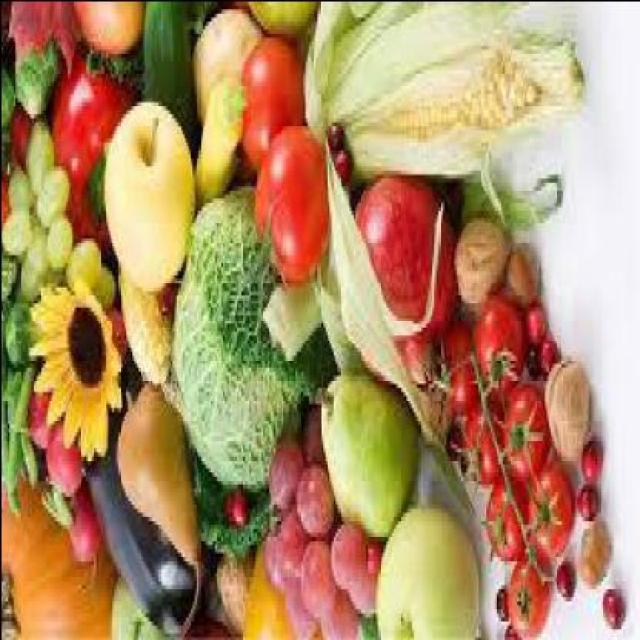BIODEGRADABLE: (322, 157, 473, 520), (302, 4, 586, 185), (174, 186, 334, 500), (82, 366, 220, 639), (351, 181, 458, 422), (119, 386, 203, 639), (28, 274, 124, 471), (109, 100, 198, 306), (2, 483, 118, 639), (50, 52, 135, 262), (313, 379, 421, 539), (374, 506, 484, 639), (254, 126, 332, 286), (194, 4, 264, 145), (242, 41, 308, 173), (245, 543, 329, 639), (459, 169, 561, 234), (197, 475, 274, 559), (197, 76, 243, 206), (144, 3, 196, 117), (121, 282, 173, 391), (455, 221, 513, 310), (11, 4, 78, 81), (527, 463, 576, 568), (501, 386, 550, 488), (476, 305, 524, 407), (546, 359, 592, 463), (481, 482, 530, 572), (434, 326, 474, 431), (77, 4, 149, 61), (456, 407, 506, 487), (504, 558, 554, 638), (2, 367, 26, 519), (16, 52, 61, 125), (216, 556, 256, 638), (298, 467, 336, 544), (46, 426, 83, 503), (70, 494, 101, 584), (270, 439, 304, 519), (300, 543, 334, 620), (2, 253, 26, 355), (334, 524, 368, 591), (254, 4, 315, 41), (4, 367, 22, 487), (579, 527, 612, 591), (66, 238, 103, 293), (42, 169, 73, 234), (352, 552, 382, 619), (322, 591, 364, 638), (507, 250, 539, 310), (282, 511, 308, 584), (12, 113, 42, 169), (32, 399, 58, 463), (26, 225, 48, 298), (285, 588, 317, 638), (265, 536, 290, 596), (30, 133, 53, 198), (2, 217, 35, 261), (302, 411, 326, 471), (90, 262, 119, 310), (49, 483, 74, 535), (12, 371, 30, 438), (2, 65, 18, 137), (22, 439, 41, 499), (10, 177, 35, 221), (582, 438, 602, 491), (48, 225, 70, 270), (225, 490, 250, 528), (575, 490, 600, 528), (528, 302, 548, 346), (604, 596, 625, 636), (334, 153, 352, 198), (555, 567, 574, 604), (326, 128, 346, 161), (439, 189, 461, 217), (498, 584, 513, 624), (445, 430, 461, 467), (458, 454, 471, 494), (526, 350, 540, 382), (541, 346, 557, 374), (503, 632, 523, 638)
